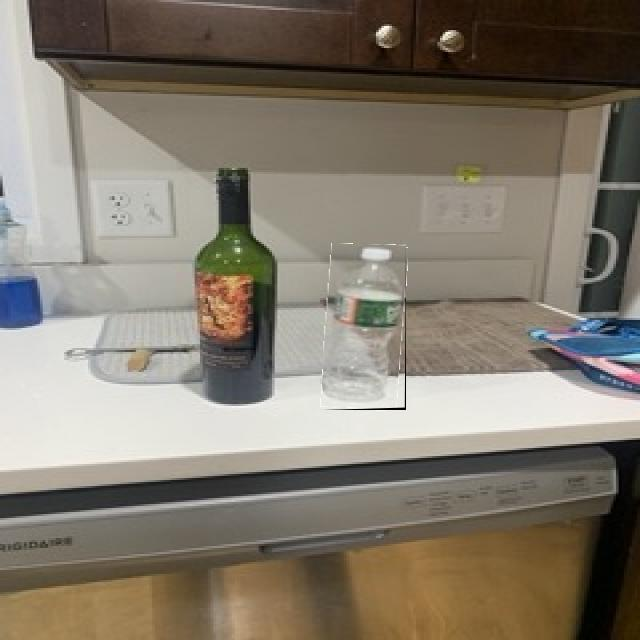water_bottle: (323, 244, 406, 410)
